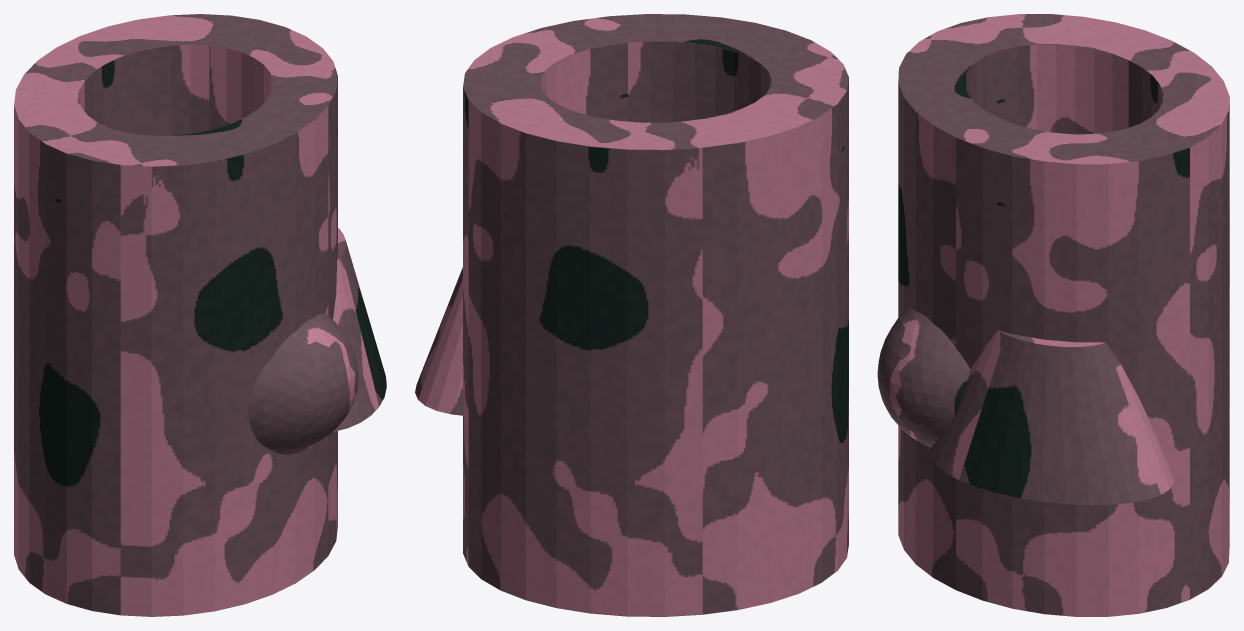
The model's file is bedroll.glb.
The picture shows the model from 3 angles, left to right: view 1: azimuth 30°, elevation 25°; view 2: azimuth 150°, elevation 25°; view 3: azimuth 270°, elevation 25°; orthographic projection. The views are drawn at different scales.
Parts seen in each view (by area): view 1: geometry_0; view 2: geometry_0; view 3: geometry_0.
Part boxes in pixels (x1,y1,x2,y2): geometry_0: (14,14,386,616); geometry_0: (415,14,848,616); geometry_0: (877,14,1229,616).
Bounding box in the file's own units: 1.34 × 1.62 × 1.14.
1 material, 1 textured.
